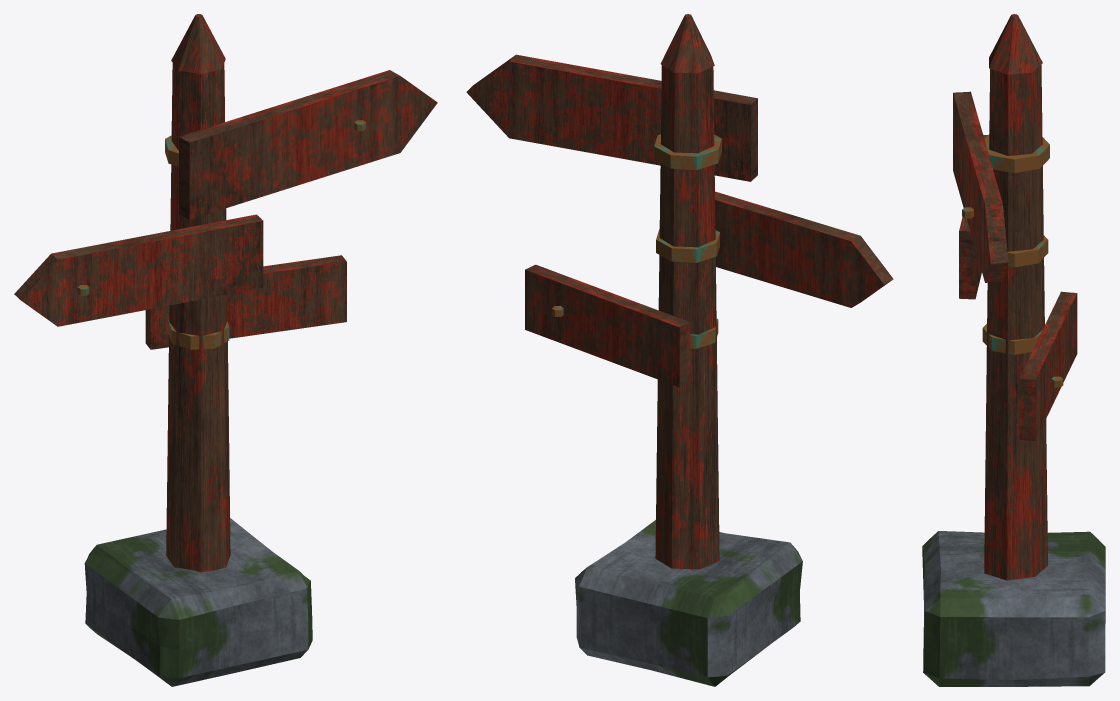
Rendered from Bell_Signpost_A.glb.
3 renders of one model, left to right at view 1: azimuth 30°, elevation 25°; view 2: azimuth 150°, elevation 25°; view 3: azimuth 270°, elevation 25°, orthographic.
Parts seen in each view (by area): view 1: Bell_Signpost_A__Timber, Bell_Signpost_A__Stone, Bell_Signpost_A__Bronze; view 2: Bell_Signpost_A__Timber, Bell_Signpost_A__Stone, Bell_Signpost_A__Bronze; view 3: Bell_Signpost_A__Timber, Bell_Signpost_A__Stone, Bell_Signpost_A__Bronze.
Part boxes in pixels (x1,y1,x2,y2): Bell_Signpost_A__Timber: (14,14,437,572); Bell_Signpost_A__Stone: (84,518,312,686); Bell_Signpost_A__Bronze: (77,120,365,349); Bell_Signpost_A__Timber: (466,14,893,569); Bell_Signpost_A__Stone: (575,520,802,686); Bell_Signpost_A__Bronze: (552,134,721,348); Bell_Signpost_A__Timber: (953,14,1077,580); Bell_Signpost_A__Stone: (922,531,1105,686); Bell_Signpost_A__Bronze: (962,134,1063,387).
Size of the model in its own units: 6.55 by 9.42 by 2.45.
Materials: 3 (3 with a texture image).
